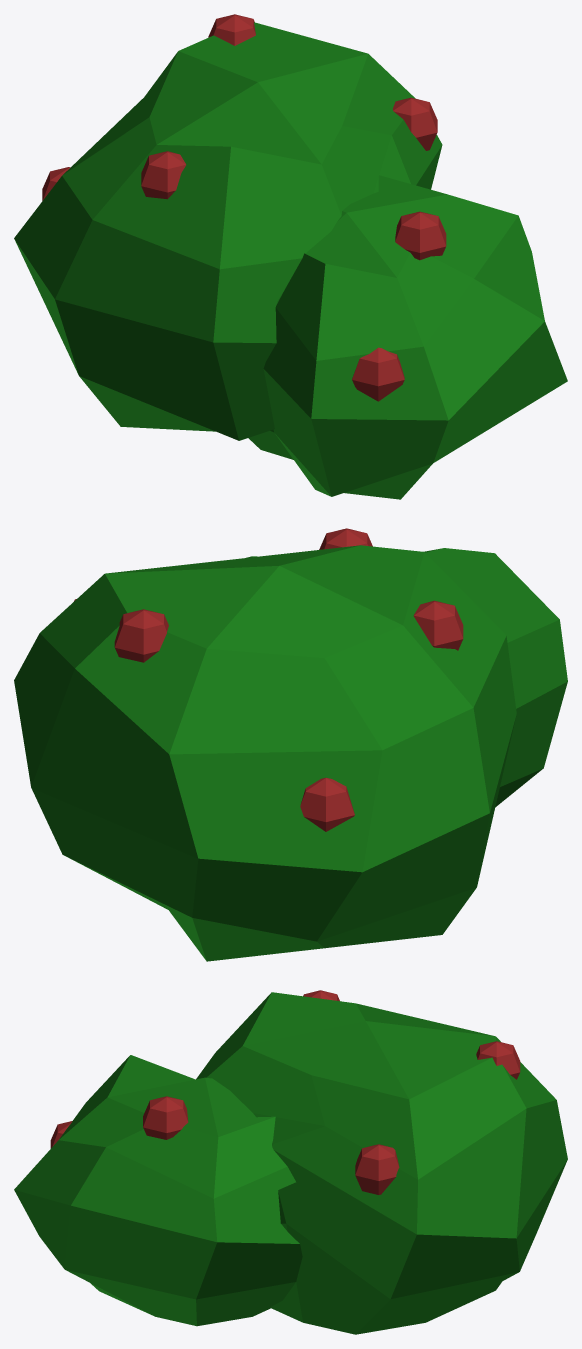
File: bush3.fbx
3 views of the same model, one above another, from view 1: azimuth 30°, elevation 25°; view 2: azimuth 150°, elevation 25°; view 3: azimuth 270°, elevation 25° (orthographic). The views are drawn at different scales.
Visible parts, largest first — view 1: bush_3_combine_after_color, pSphere8, pSphere6, pSphere3, pSphere7, pSphere5; view 2: bush_3_combine_after_color, pSphere5, pSphere4, pSphere3, pSphere6; view 3: bush_3_combine_after_color, pSphere7, pSphere6, pSphere5.
Part boxes in pixels (x1,y1,x2,y2): bush_3_combine_after_color: [14, 22, 567, 499]; pSphere8: [352, 347, 404, 401]; pSphere6: [395, 211, 446, 260]; pSphere3: [141, 151, 186, 199]; pSphere7: [393, 97, 437, 150]; pSphere5: [208, 14, 255, 45]; bush_3_combine_after_color: [14, 545, 567, 961]; pSphere5: [114, 609, 168, 662]; pSphere4: [300, 777, 354, 831]; pSphere3: [413, 600, 463, 650]; pSphere6: [319, 528, 372, 549]; bush_3_combine_after_color: [14, 992, 567, 1334]; pSphere7: [355, 1144, 399, 1194]; pSphere6: [143, 1096, 188, 1139]; pSphere5: [476, 1041, 520, 1079].
Bounding box in the file's own units: 2.69 × 1.94 × 3.52.
